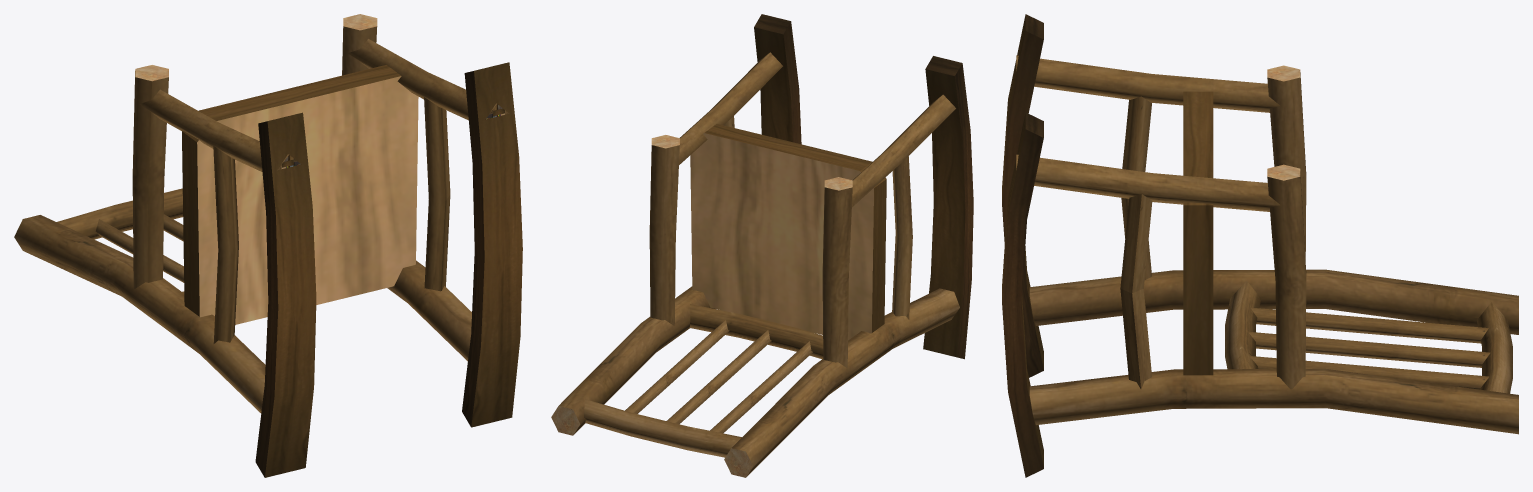
The model's file is Log_Rocking_Chair.FBX.
3 views of the same model, side by side, from view 1: azimuth 30°, elevation 25°; view 2: azimuth 150°, elevation 25°; view 3: azimuth 270°, elevation 25° (orthographic). The views are drawn at different scales.
Visible parts, largest first — view 1: Log_Rocking_Chair; view 2: Log_Rocking_Chair; view 3: Log_Rocking_Chair.
Part boxes in pixels (x1,y1,x2,y2): Log_Rocking_Chair: (14,14,522,477); Log_Rocking_Chair: (551,14,973,477); Log_Rocking_Chair: (1002,14,1518,477).
Size of the model in its own units: 6.94 by 9.55 by 12.87.
